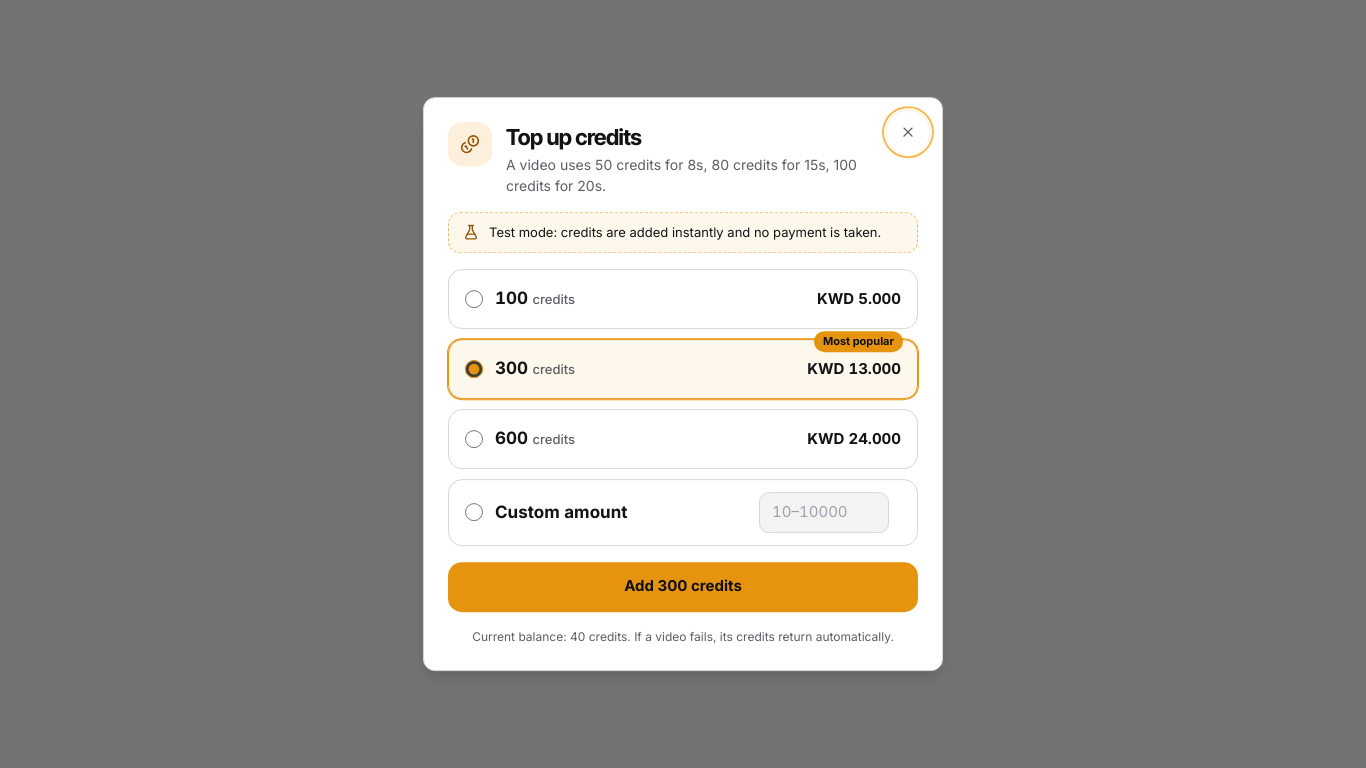
Test: TopUpDialog › validates custom amounts before submitting
Later steps or results of the test are not shown.
In the number field named "Credits to add": [824, 513] box left=759, top=492, right=889, bottom=533, type "5"
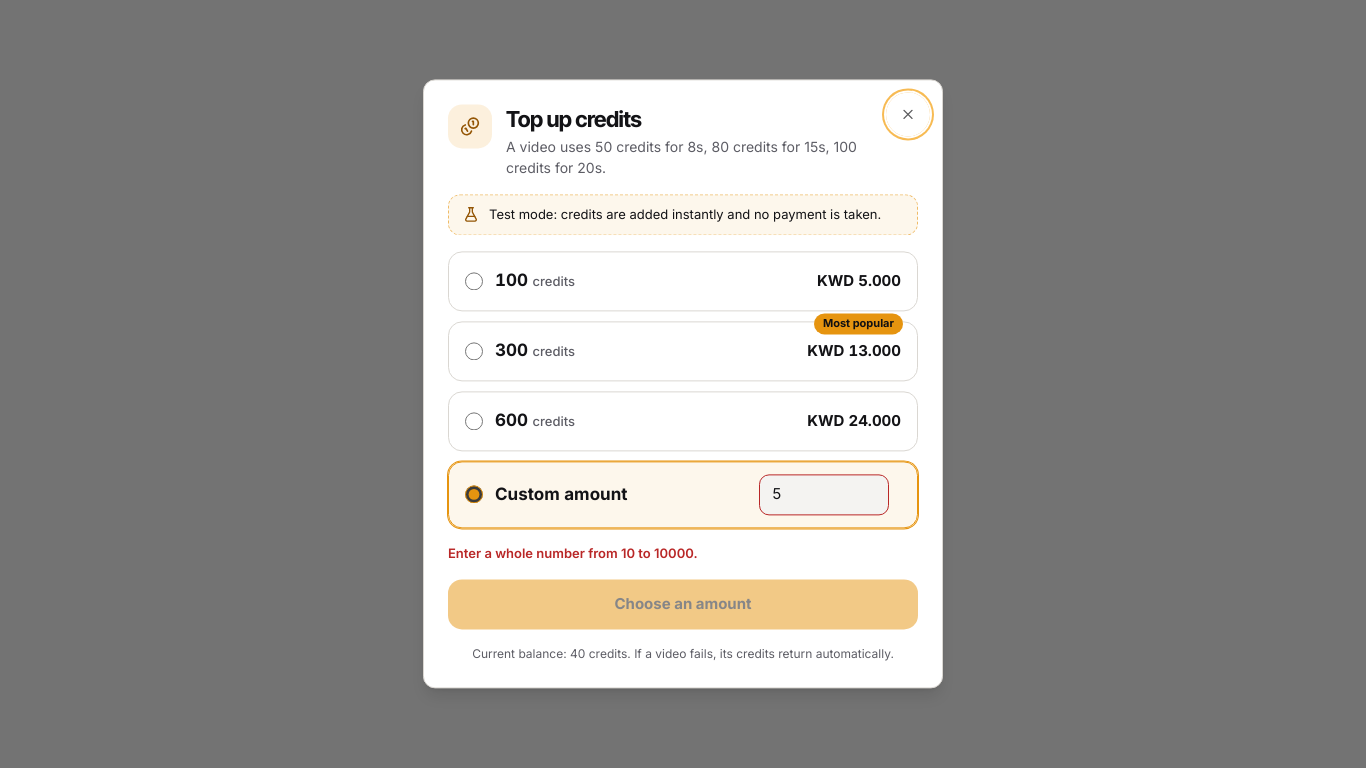
Now the message shows "from 10 to 10000", box left=448, top=545, right=698, bottom=561
Now the button "Choose an amount" is disabled, box left=448, top=580, right=918, bottom=630
